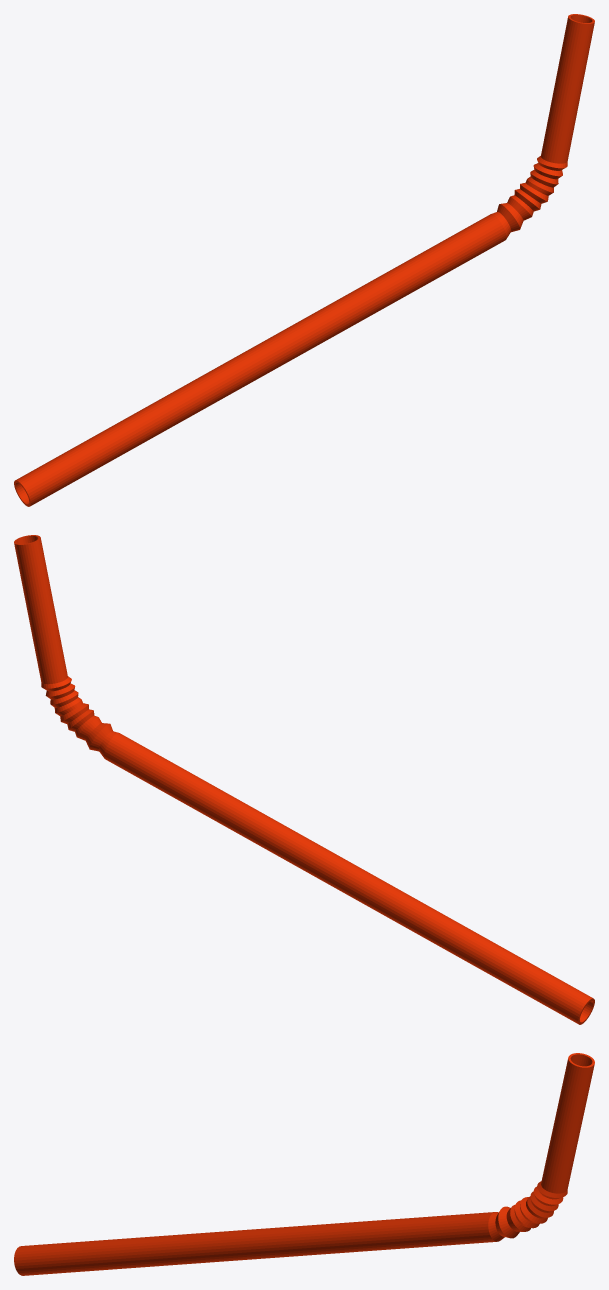
The model's file is strohhalm.fbx.
3 renders of one model, top to bottom at view 1: azimuth 30°, elevation 25°; view 2: azimuth 150°, elevation 25°; view 3: azimuth 330°, elevation 25°, orthographic.
Visible parts, largest first — view 1: straw; view 2: straw; view 3: straw.
Boxes of the visible parts, x1,y1,x2,y2 form: straw: (14,14,594,506); straw: (14,535,594,1024); straw: (14,1053,594,1275).
Bounding box in the file's own units: 246 × 144 × 12.75.
